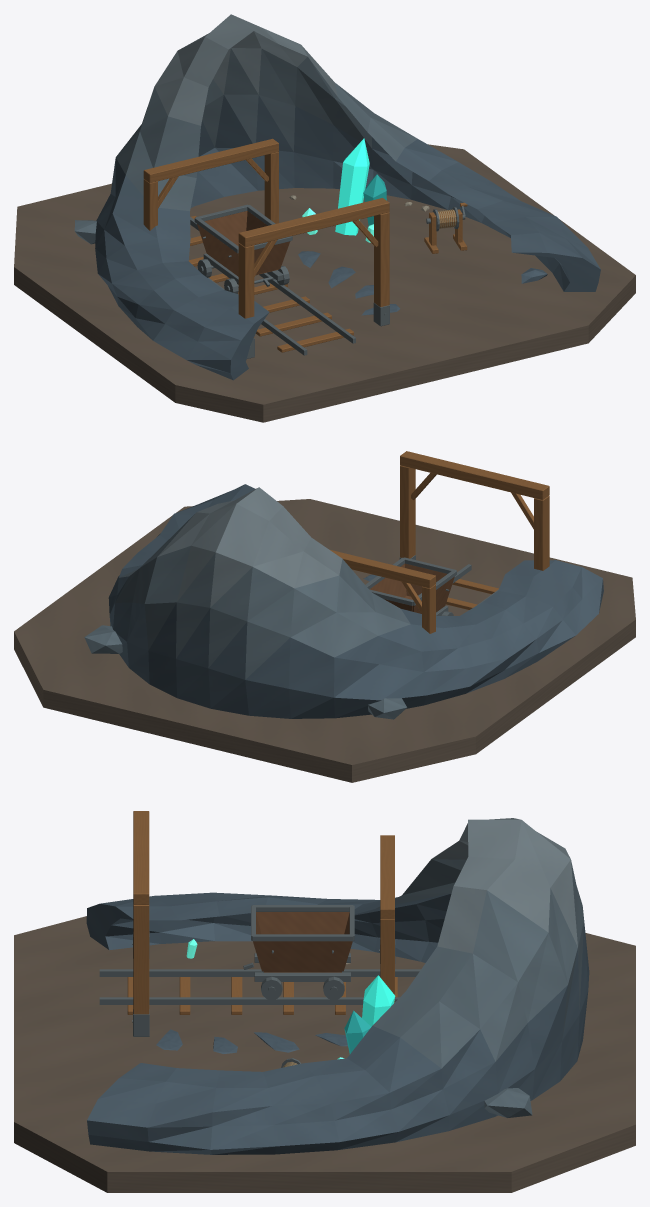
The picture shows the model from 3 angles, top to bottom: view 1: azimuth 30°, elevation 25°; view 2: azimuth 150°, elevation 25°; view 3: azimuth 270°, elevation 25°; orthographic projection. The views are drawn at different scales.
Parts seen in each view (by area): view 1: floor__cut_stone_plinth, cave_enclosure__continuous_cutaway_rock, entrance_support__lintel, inner_support__lintel, entrance_support, abandoned_cart, focal_crystal__six_sided_growth, entrance_support__post_-1, inner_support, abandoned_cart__side_plate_-1, rail_right__beam, inner_support__post_-1 (+1 smaller); view 2: cave_enclosure__continuous_cutaway_rock, floor__cut_stone_plinth, entrance_support__lintel, entrance_support, inner_support__lintel, entrance_support__post_-1, abandoned_cart, wall_boulder__weathered_mass, left_boulder__weathered_mass, inner_support__post_-1; view 3: cave_enclosure__continuous_cutaway_rock, floor__cut_stone_plinth, abandoned_cart, entrance_support, abandoned_cart__side_plate_-1, rail_right__beam, rail_left__beam, entrance_support__lintel, inner_support__lintel, wall_boulder__weathered_mass, focal_crystal__six_sided_growth, inner_support (+2 smaller).
Part boxes in pixels (x1,y1,x2,y2): floor__cut_stone_plinth: (14,144,635,422); cave_enclosure__continuous_cutaway_rock: (95,14,600,380); entrance_support__lintel: (238,198,389,247); inner_support__lintel: (143,138,278,182); entrance_support: (352,212,389,326); abandoned_cart: (195,204,292,285); focal_crystal__six_sided_growth: (335,138,369,235); entrance_support__post_-1: (238,243,254,337); inner_support: (246,152,278,223); abandoned_cart__side_plate_-1: (197,224,238,276); rail_right__beam: (190,216,355,343); inner_support__post_-1: (143,179,157,230); cave_enclosure__continuous_cutaway_rock: (108,484,603,718); floor__cut_stone_plinth: (14,499,635,782); entrance_support__lintel: (400,451,549,499); entrance_support: (399,465,436,559); inner_support__lintel: (330,550,435,588); entrance_support__post_-1: (534,496,549,570); abandoned_cart: (365,557,413,611); wall_boulder__weathered_mass: (84,625,122,653); left_boulder__weathered_mass: (368,698,406,719); inner_support__post_-1: (422,584,435,633); cave_enclosure__continuous_cutaway_rock: (86,818,589,1154); floor__cut_stone_plinth: (14,916,635,1192); abandoned_cart: (252,905,354,1000); entrance_support: (132,905,149,1036); abandoned_cart__side_plate_-1: (256,912,349,934); rail_right__beam: (99,997,399,1004); rail_left__beam: (99,969,420,976); entrance_support__lintel: (133,811,149,904); inner_support__lintel: (380,835,394,919); wall_boulder__weathered_mass: (484,1088,532,1117); focal_crystal__six_sided_growth: (362,975,395,1026); inner_support: (380,919,394,1002).
Bounding box in the file's own units: 12 × 5.15 × 12.
12 materials, 7 textured.
